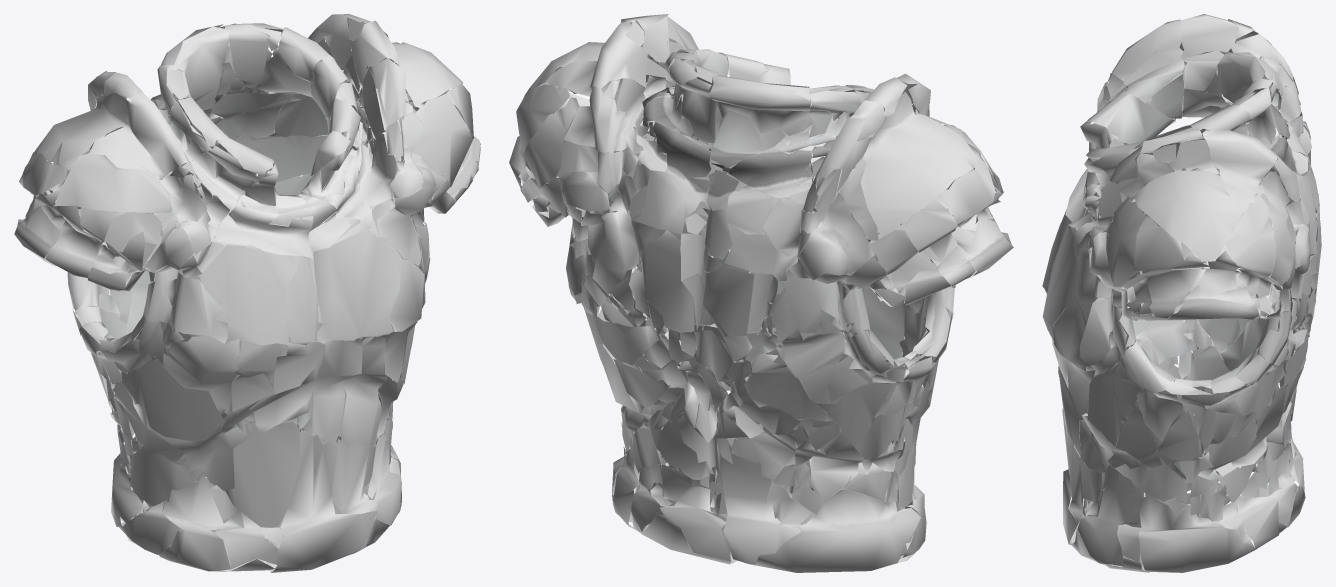
Rendered from gear_armor.glb.
The picture shows the model from 3 angles, left to right: view 1: azimuth 30°, elevation 25°; view 2: azimuth 150°, elevation 25°; view 3: azimuth 270°, elevation 25°; orthographic projection. The views are drawn at different scales.
Visible parts, largest first — view 1: Mesh_0; view 2: Mesh_0; view 3: Mesh_0.
Boxes of the visible parts, <box> form: Mesh_0: <box>14,14,480,572</box>; Mesh_0: <box>509,14,1013,572</box>; Mesh_0: <box>1042,14,1321,572</box>.
Size of the model in its own units: 0.5975 by 0.6 by 0.3335.
1 material, 1 textured.
